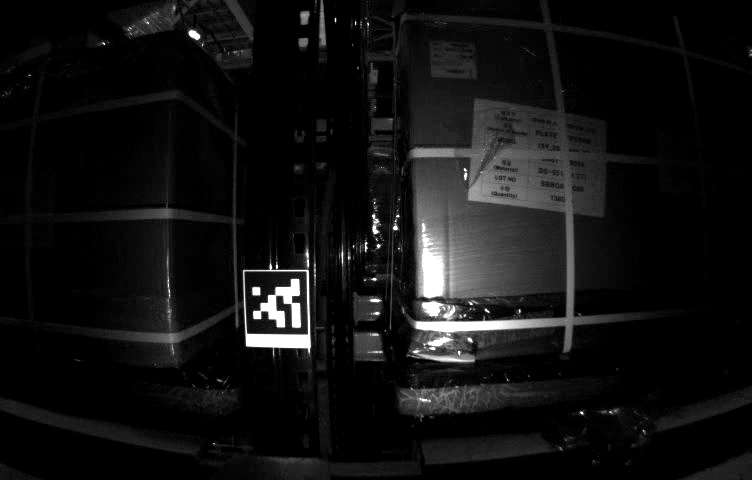True Barcode: (429, 40, 478, 81)
